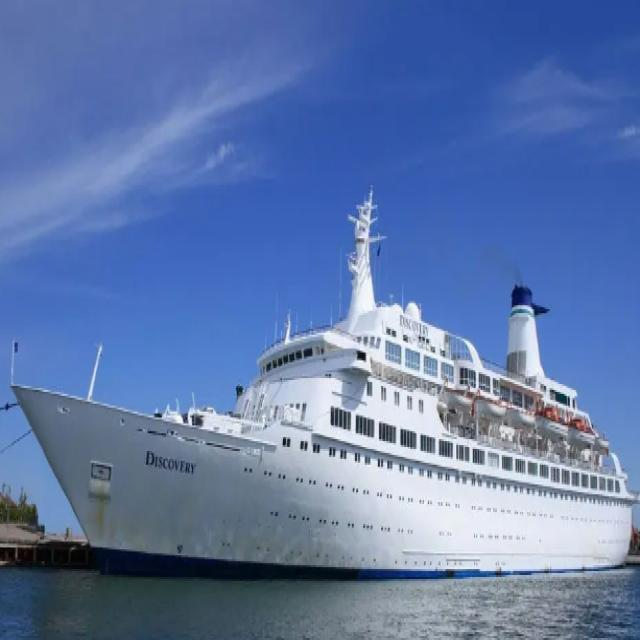passenger ship: (4, 204, 634, 578)
